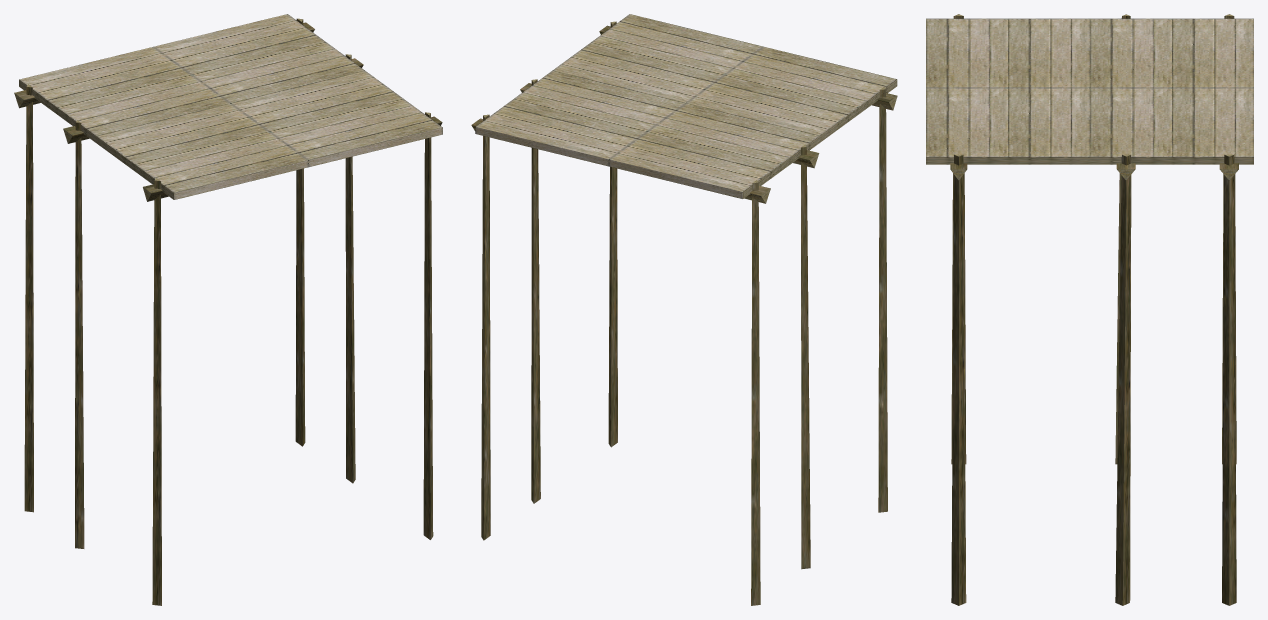
The model's file is thm_endr_lake_platform_square_s01_l2.fbx.
3 views of the same model, side by side, from view 1: azimuth 30°, elevation 25°; view 2: azimuth 150°, elevation 25°; view 3: azimuth 270°, elevation 25° (orthographic). The views are drawn at different scales.
Visible parts, largest first — view 1: mesh_node; view 2: mesh_node; view 3: mesh_node.
Boxes of the visible parts, <box> form: mesh_node: <box>14,14,442,605</box>; mesh_node: <box>471,14,897,605</box>; mesh_node: <box>926,14,1253,605</box>.
Bounding box in the file's own units: 8.68 × 12.07 × 8.
2 materials, 2 textured.
